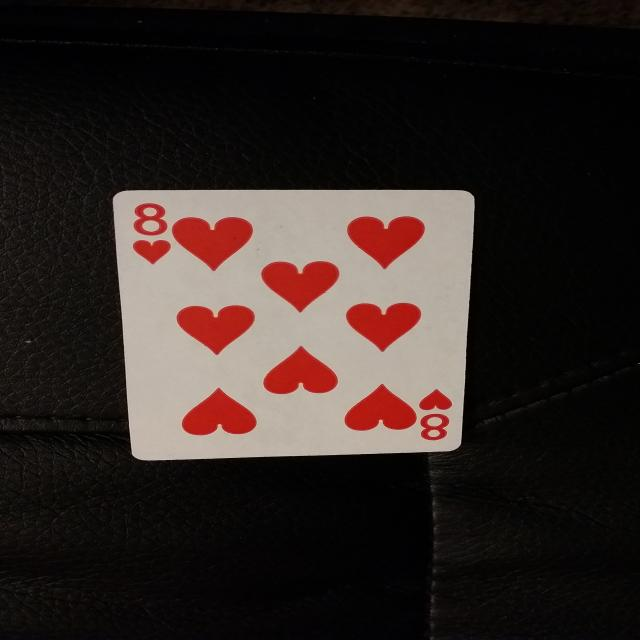8h: (120, 198, 189, 272), (396, 386, 464, 446)
